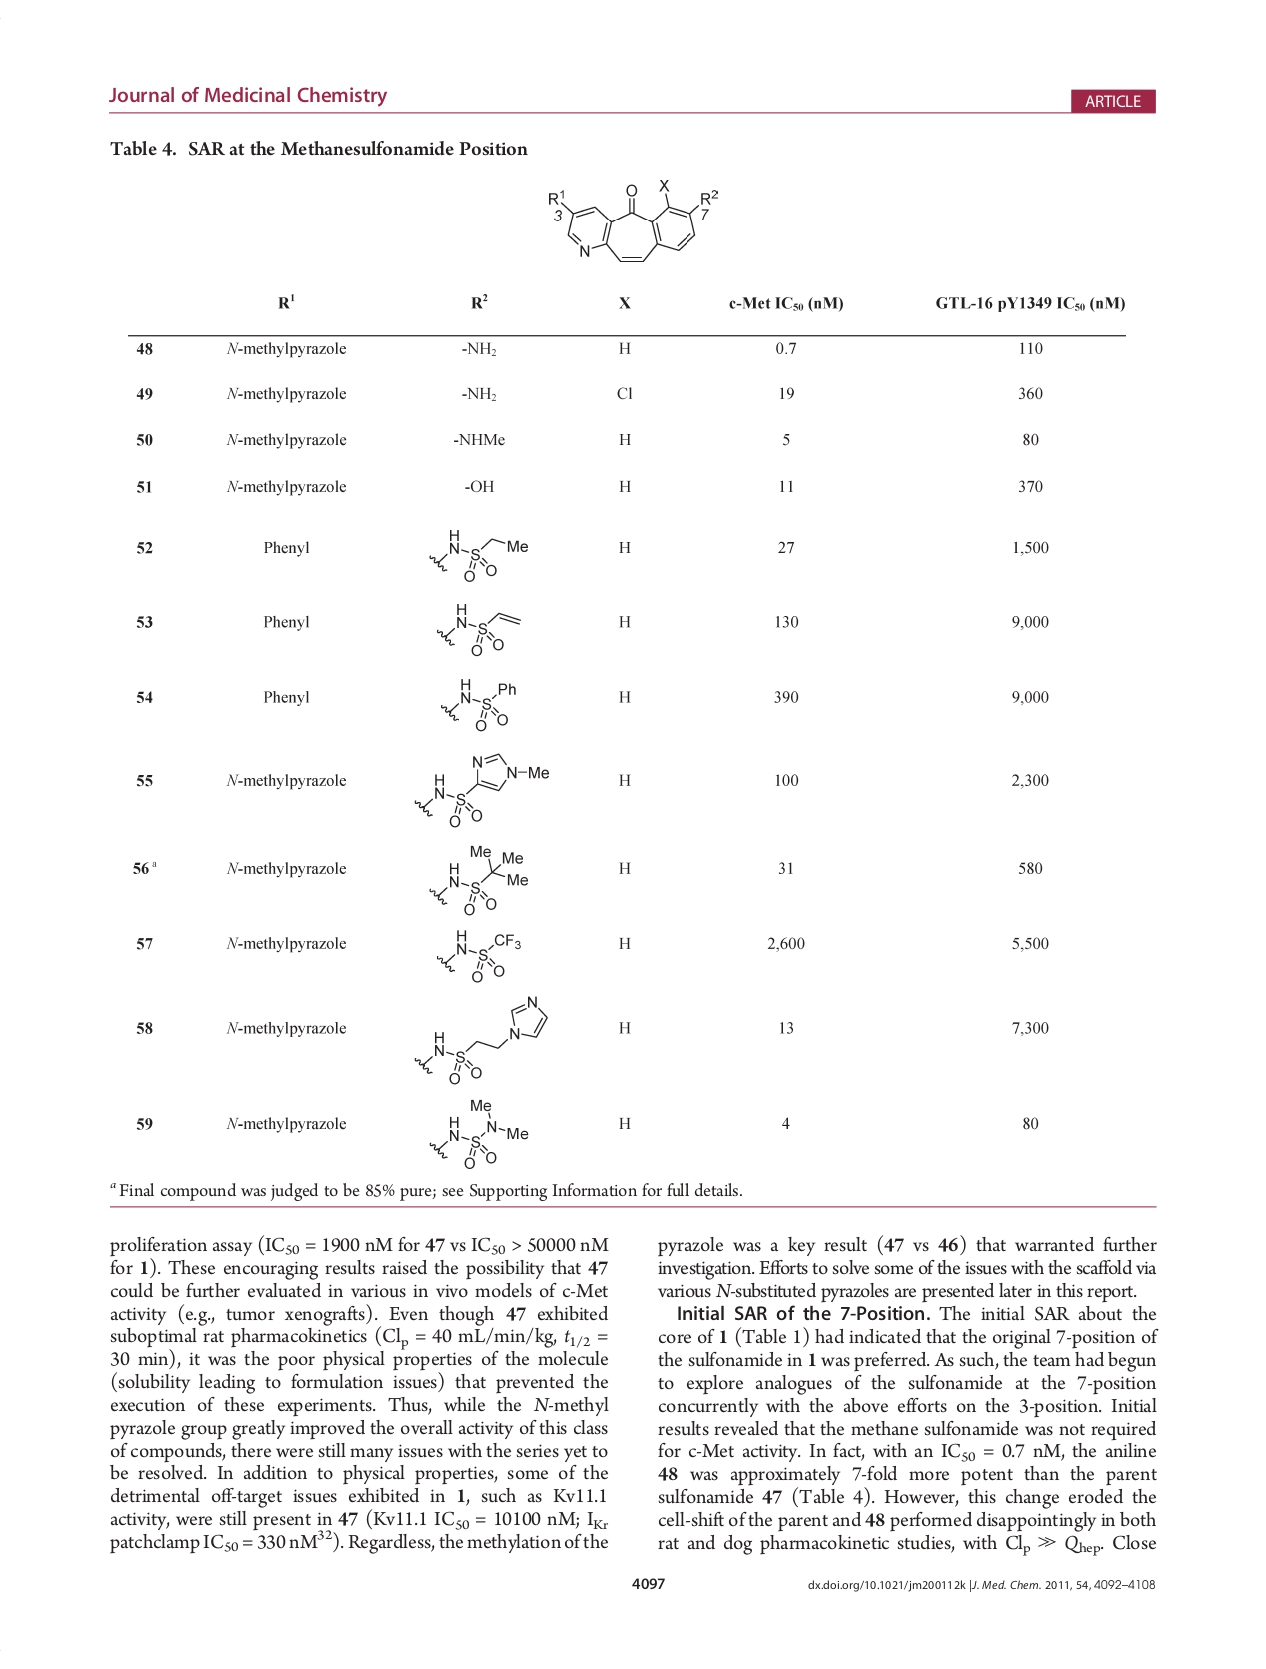exist_molecular: (540, 174, 723, 270), (414, 993, 549, 1087), (411, 747, 551, 831), (423, 1093, 531, 1174), (422, 840, 531, 918), (423, 527, 532, 589), (432, 926, 523, 985), (436, 602, 527, 660), (440, 676, 520, 734)
